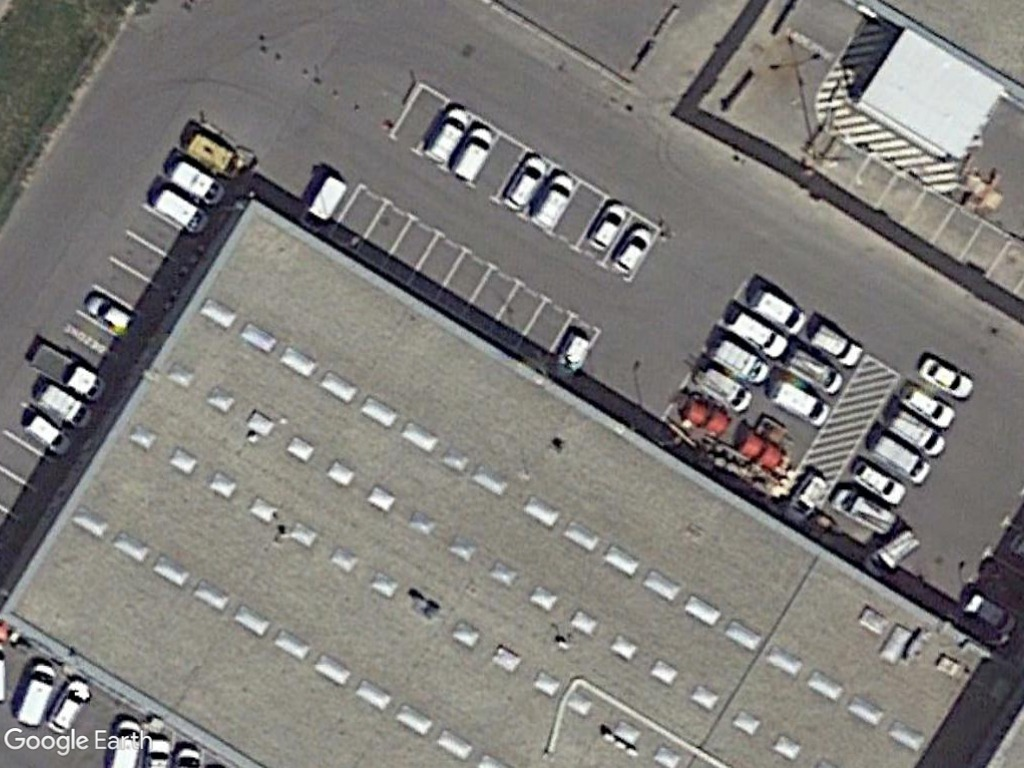car: (916, 350, 976, 403), (849, 457, 910, 508), (502, 151, 552, 213), (47, 676, 96, 736), (897, 383, 959, 430), (38, 380, 94, 430), (81, 291, 138, 340), (612, 225, 658, 279), (586, 200, 629, 253), (23, 411, 72, 456)
others: (30, 336, 105, 403)
truck: (706, 331, 771, 386)
van: (825, 482, 900, 539), (766, 376, 835, 431), (150, 182, 214, 239), (725, 306, 790, 362), (868, 429, 933, 484), (883, 406, 951, 458), (690, 361, 754, 414), (421, 101, 473, 166), (746, 283, 809, 336), (14, 660, 63, 728), (184, 130, 247, 182), (169, 158, 230, 207), (808, 322, 870, 369), (531, 172, 579, 231), (450, 126, 499, 182)
